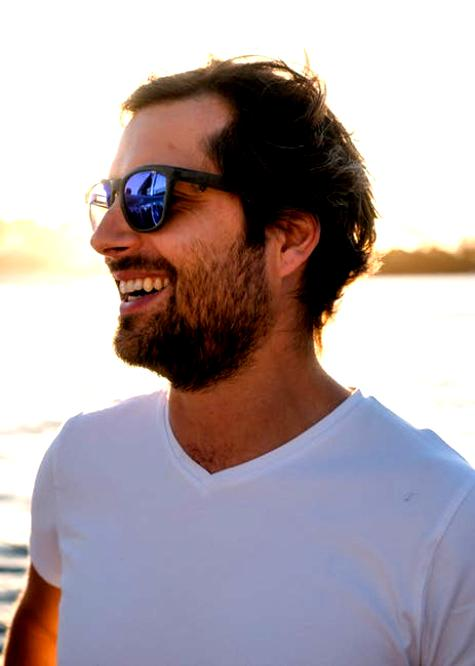face: (90, 107, 222, 354)
